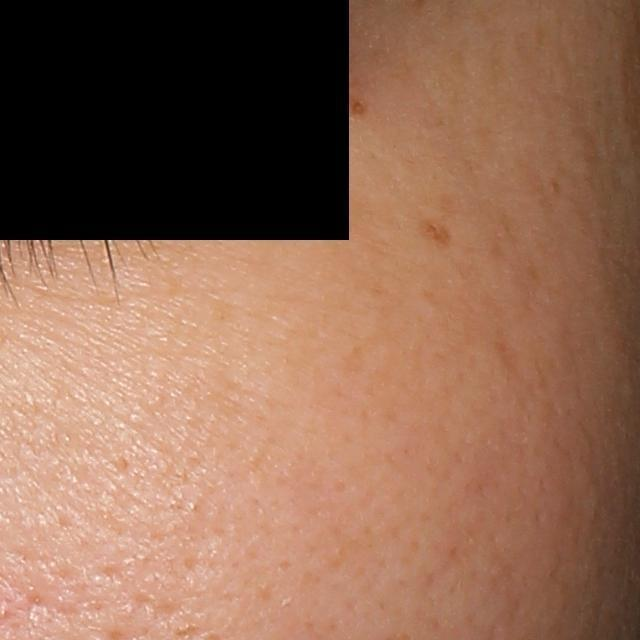melasma: (417, 216, 450, 251)
